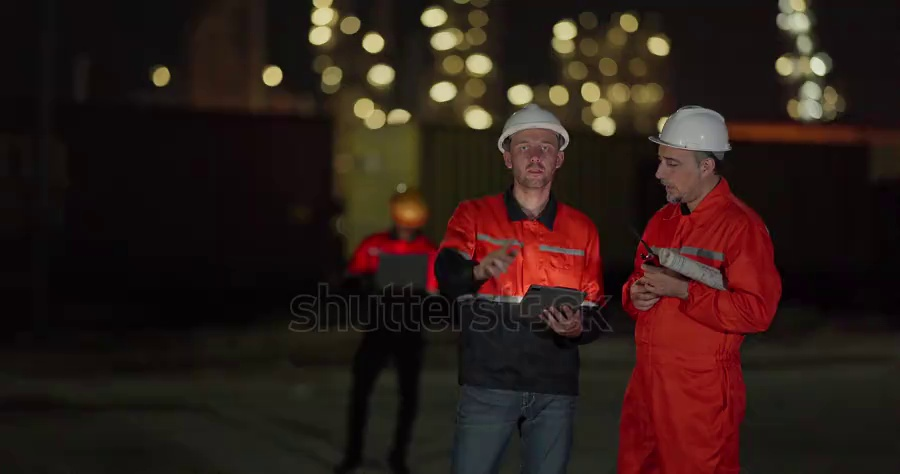helmet: (649, 105, 732, 159), (496, 104, 570, 152), (389, 189, 429, 227)
person: (431, 103, 606, 474), (617, 105, 783, 474), (334, 189, 440, 474)
